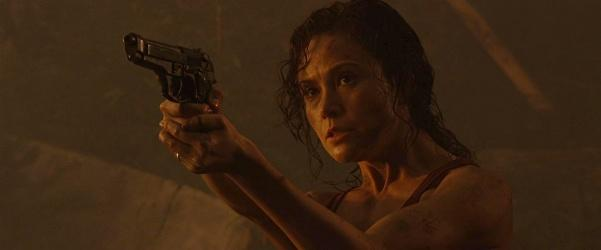Gun: (122, 33, 218, 116)
